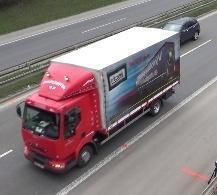car: (162, 16, 202, 46)
truck: (17, 25, 180, 175)
